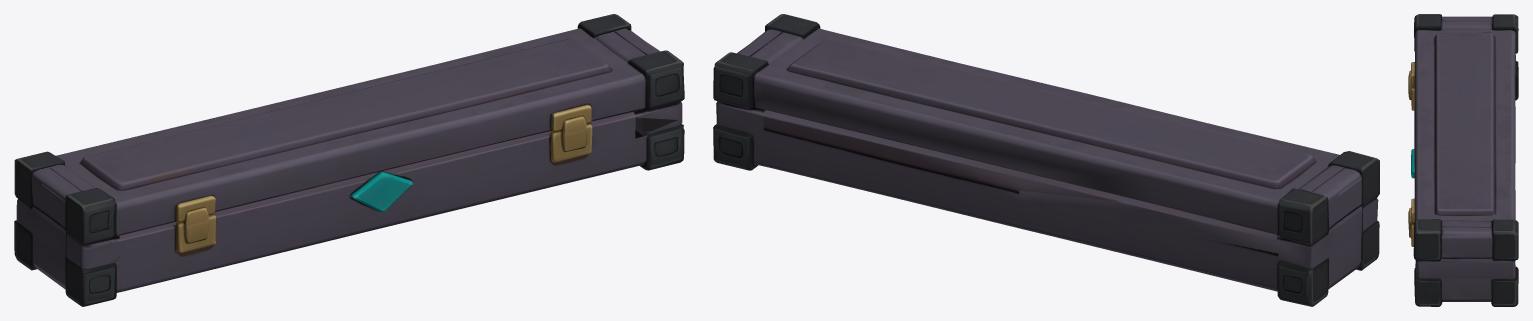
Rendered from tier-4-long.glb.
3 views of the same model, side by side, from view 1: azimuth 30°, elevation 25°; view 2: azimuth 150°, elevation 25°; view 3: azimuth 270°, elevation 25° (orthographic). The views are drawn at different scales.
Visible parts, largest first — view 1: tier-4-long; view 2: tier-4-long; view 3: tier-4-long.
Boxes of the visible parts, x1,y1,x2,y2 form: tier-4-long: [14, 14, 684, 306]; tier-4-long: [713, 14, 1379, 306]; tier-4-long: [1408, 14, 1518, 306].
Bounding box in the file's own units: 2.1 × 0.3458 × 0.4512.
1 material, 1 textured.
